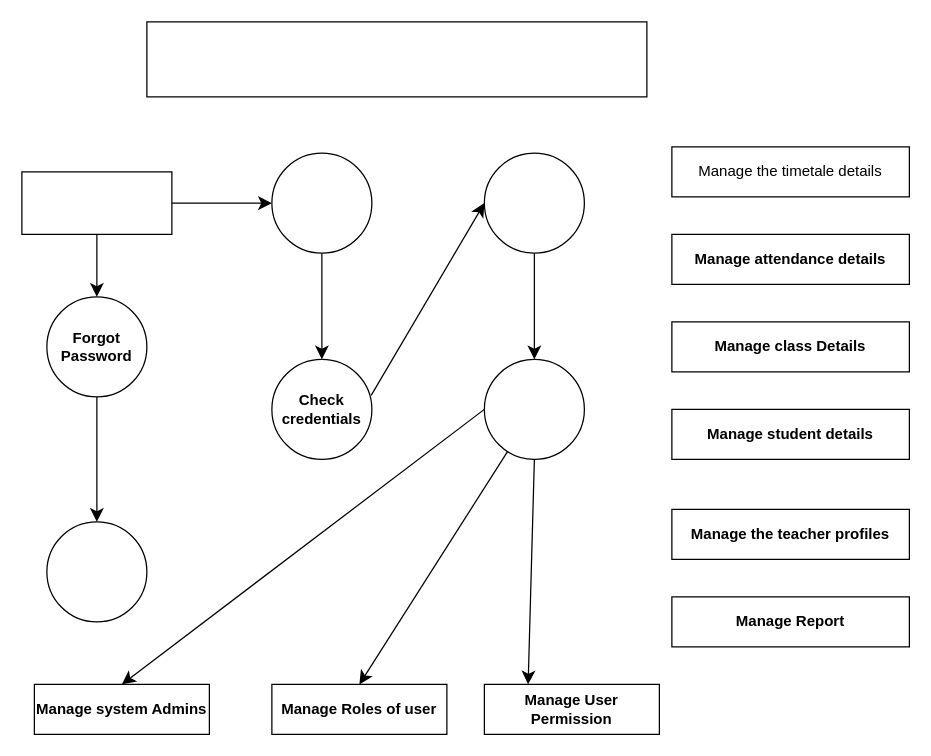
Some shapes in this 931 by 756 pixel diagram are drawn without their labels. The shapes that lost their labels are listed below. From the top down, each one's box as (x1, y1, x2, y2) in pixels, then its label:
(146, 21, 647, 97): Student Information system
(21, 171, 172, 234): Admin
(271, 152, 372, 253): Login to system
(483, 152, 584, 253): check Roles Of Access
(483, 358, 584, 459): Manage Modules
(46, 521, 147, 622): send email to user
